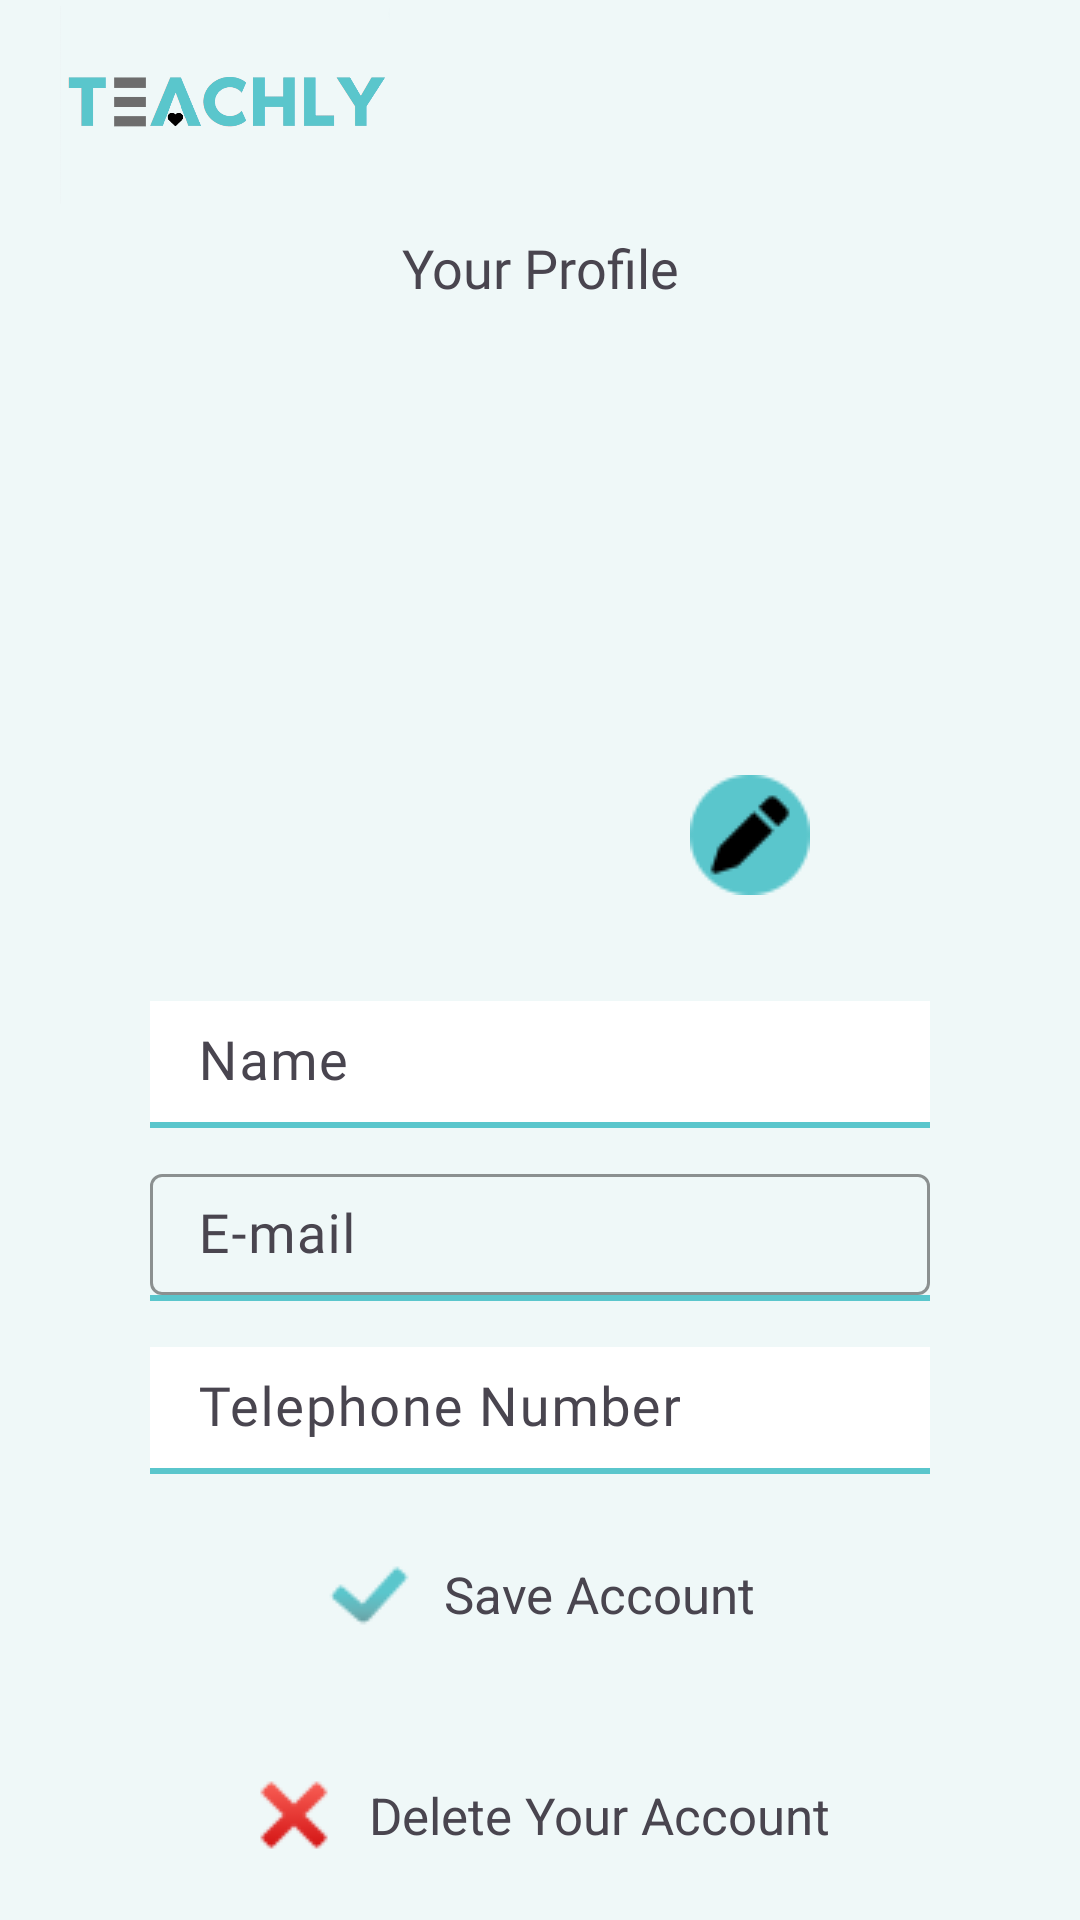

Named icons in this screenshot (1080 × 1920) and their bounding boxes, (x1, y1, x2, y2):
Edit Image Pencil: (690, 775, 810, 895)
